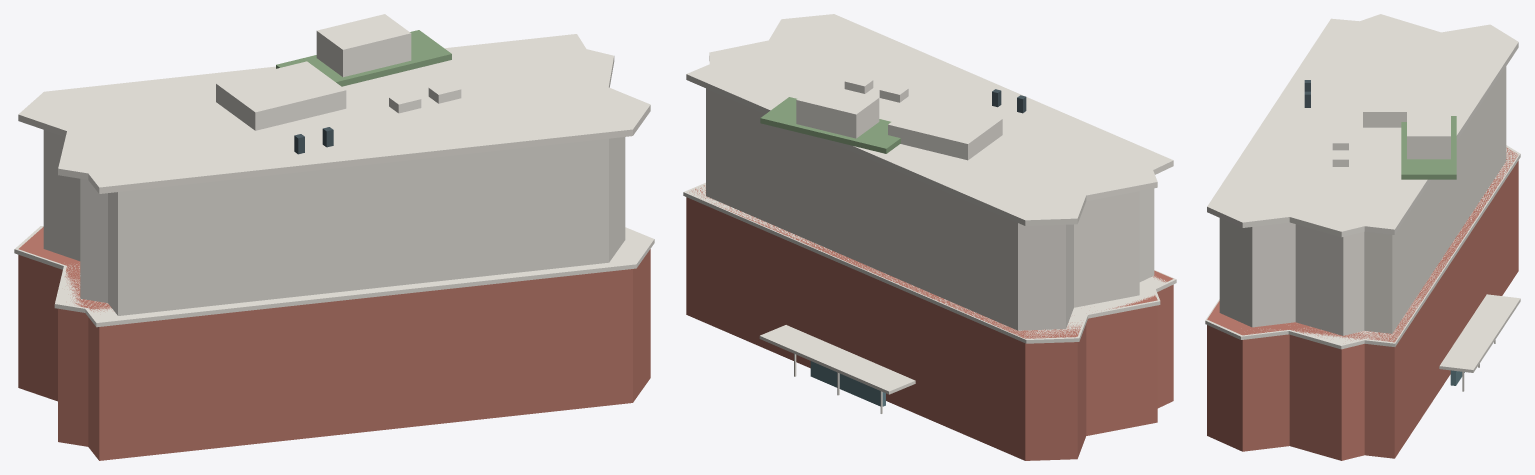
The model's file is chan_sui_wai_building.glb.
3 renders of one model, left to right at view 1: azimuth 30°, elevation 25°; view 2: azimuth 150°, elevation 25°; view 3: azimuth 270°, elevation 25°, orthographic. The views are drawn at different scales.
Parts seen in each view (by area): view 1: Chan Sui Wai Building_base, Chan Sui Wai Building_upper, Chan Sui Wai Building_parapet, Chan Sui Wai Building_band, Chan Sui Wai Building_roof_plant, Chan Sui Wai Building_pavilion, Chan Sui Wai Building_garden; view 2: Chan Sui Wai Building_base, Chan Sui Wai Building_upper, Chan Sui Wai Building_parapet, Chan Sui Wai Building_band, Chan Sui Wai Building_roof_plant, Chan Sui Wai Building_canopy, Chan Sui Wai Building_pavilion, Chan Sui Wai Building_garden, Chan Sui Wai Building_door; view 3: Chan Sui Wai Building_base, Chan Sui Wai Building_parapet, Chan Sui Wai Building_upper, Chan Sui Wai Building_band, Chan Sui Wai Building_roof_plant, Chan Sui Wai Building_canopy, Chan Sui Wai Building_pavilion, Chan Sui Wai Building_garden.
Part boxes in pixels (x1=…): Chan Sui Wai Building_base: x1=18, y1=227, x2=650, y2=460; Chan Sui Wai Building_upper: x1=43, y1=130, x2=625, y2=315; Chan Sui Wai Building_parapet: x1=18, y1=34, x2=650, y2=193; Chan Sui Wai Building_band: x1=14, y1=226, x2=654, y2=327; Chan Sui Wai Building_roof_plant: x1=216, y1=61, x2=346, y2=130; Chan Sui Wai Building_pavilion: x1=316, y1=14, x2=411, y2=77; Chan Sui Wai Building_garden: x1=276, y1=30, x2=451, y2=86; Chan Sui Wai Building_base: x1=686, y1=185, x2=1173, y2=460; Chan Sui Wai Building_upper: x1=706, y1=88, x2=1154, y2=330; Chan Sui Wai Building_parapet: x1=686, y1=14, x2=1173, y2=225; Chan Sui Wai Building_band: x1=683, y1=182, x2=1176, y2=343; Chan Sui Wai Building_roof_plant: x1=888, y1=99, x2=1002, y2=160; Chan Sui Wai Building_canopy: x1=759, y1=325, x2=915, y2=394; Chan Sui Wai Building_pavilion: x1=796, y1=83, x2=879, y2=138; Chan Sui Wai Building_garden: x1=760, y1=97, x2=900, y2=153; Chan Sui Wai Building_door: x1=810, y1=361, x2=885, y2=406; Chan Sui Wai Building_base: x1=1207, y1=147, x2=1518, y2=460; Chan Sui Wai Building_parapet: x1=1207, y1=14, x2=1518, y2=237; Chan Sui Wai Building_upper: x1=1219, y1=66, x2=1506, y2=335; Chan Sui Wai Building_band: x1=1205, y1=145, x2=1520, y2=349; Chan Sui Wai Building_roof_plant: x1=1363, y1=75, x2=1428, y2=127; Chan Sui Wai Building_canopy: x1=1439, y1=294, x2=1520, y2=372; Chan Sui Wai Building_pavilion: x1=1407, y1=108, x2=1450, y2=159; Chan Sui Wai Building_garden: x1=1401, y1=116, x2=1456, y2=179.
Bounding box in the file's own units: 47.35 × 25.8 × 28.64.
